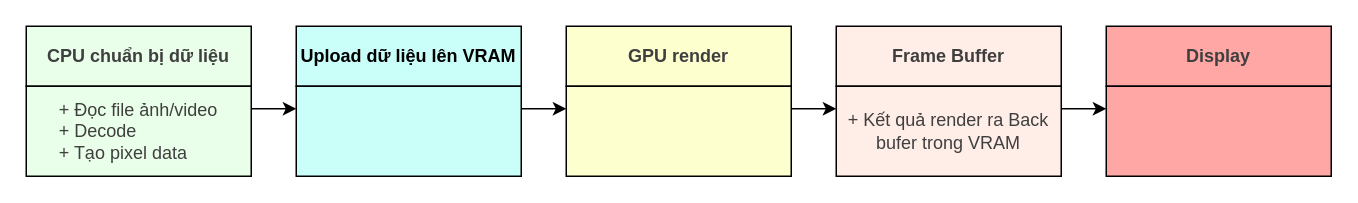
The diagram is 1358 pixels wide and 203 high, and some of its shapes have lost their labels. The centre of each missing label's shape, as x and y in pixels:
+ Copy và lưu trữ thành texture trên VRAM: [408,130]
+ Swap chain + Scan out: [1218,130]
+ Vertex processing + Pixel shader + Blending / Composition + ...: [678,130]
